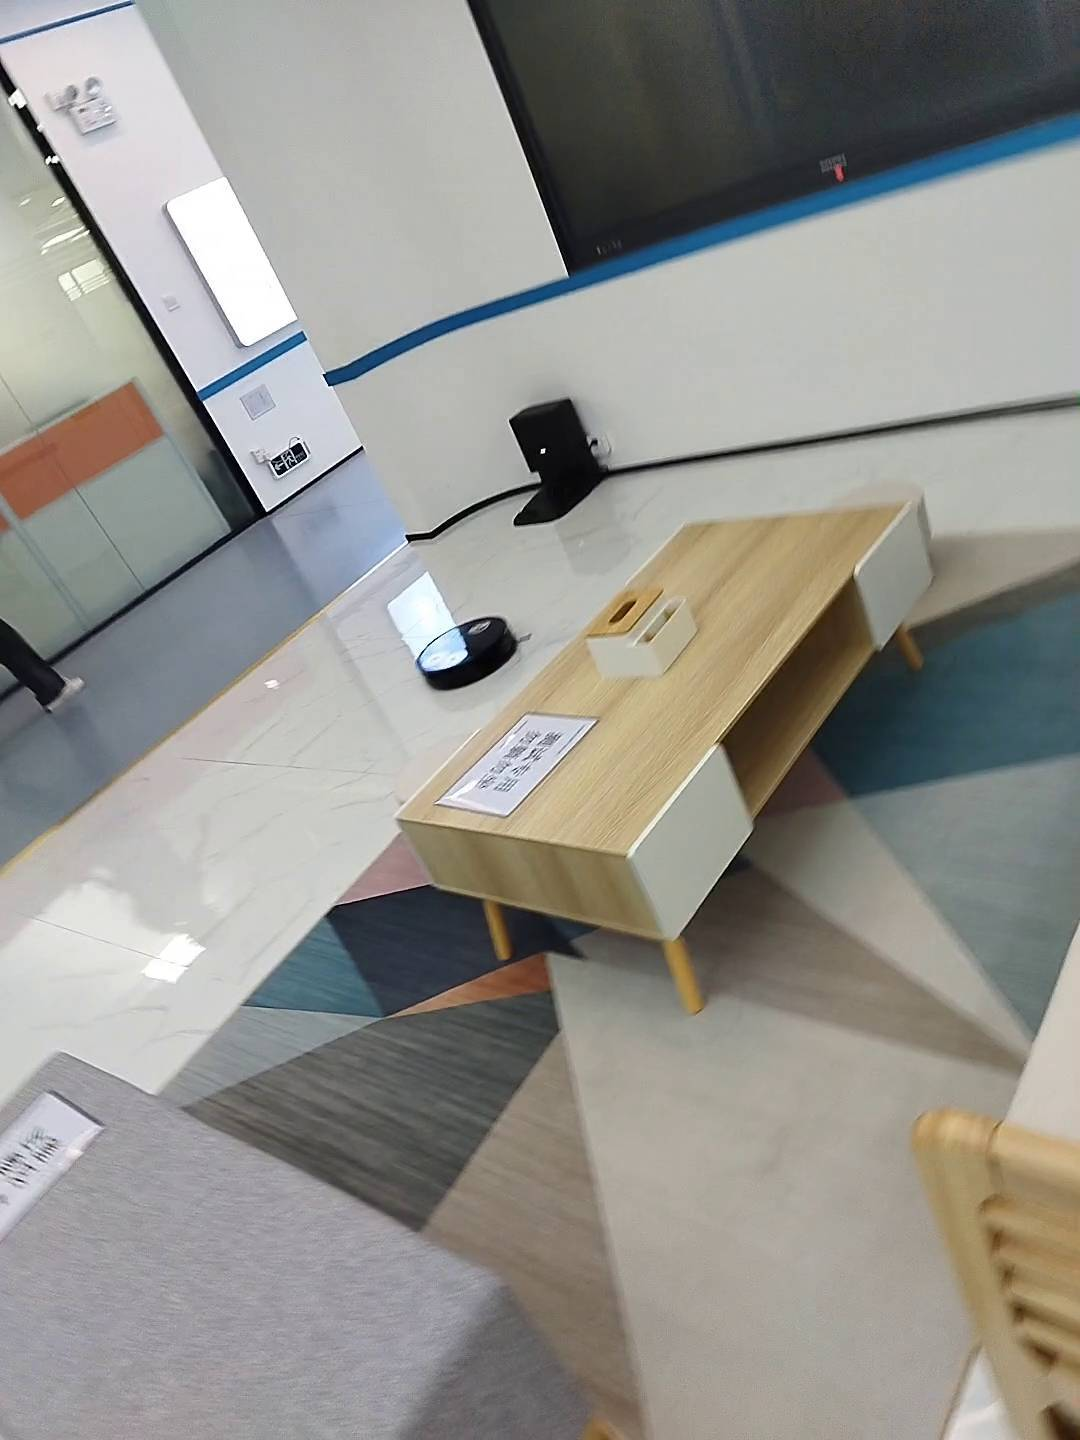dust collecting barrel: (506, 396, 604, 526)
